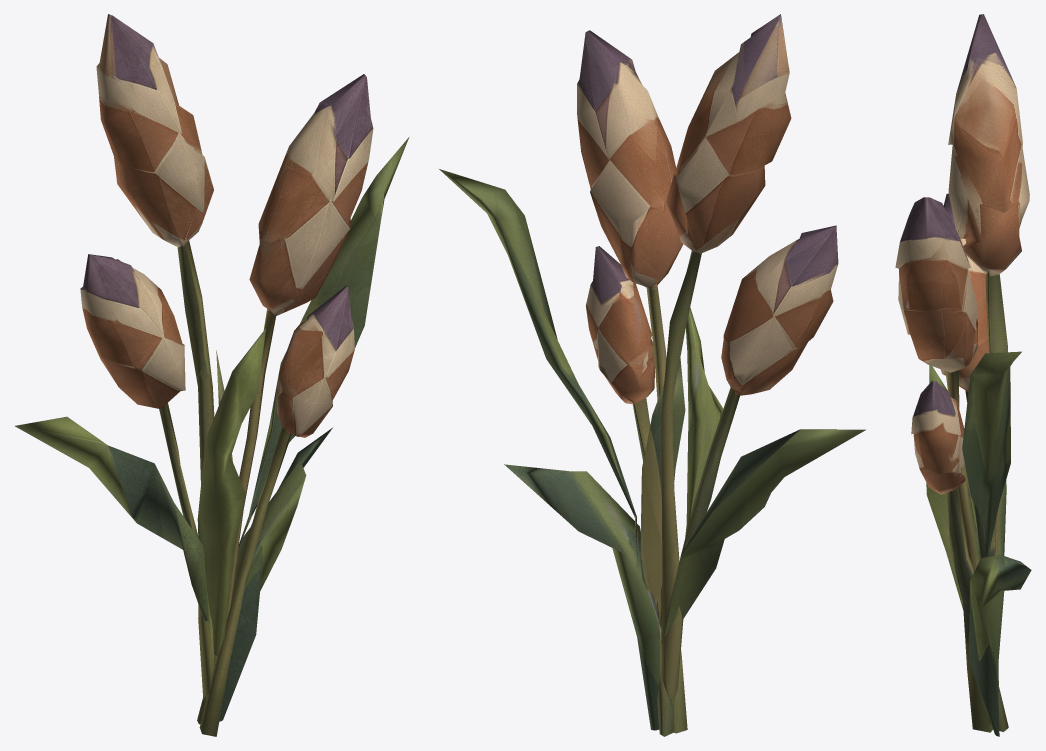
The model's file is AW-VAR-FLORA-003-v0.2.glb.
3 views of the same model, side by side, from view 1: azimuth 30°, elevation 25°; view 2: azimuth 150°, elevation 25°; view 3: azimuth 270°, elevation 25° (orthographic). The views are drawn at different scales.
Parts seen in each view (by area): view 1: AW-VAR-FLORA-003_meter_ground_pivot; view 2: AW-VAR-FLORA-003_meter_ground_pivot; view 3: AW-VAR-FLORA-003_meter_ground_pivot.
Boxes of the visible parts, left/top/right/bottom form: AW-VAR-FLORA-003_meter_ground_pivot: left=15, top=14, right=409, bottom=736; AW-VAR-FLORA-003_meter_ground_pivot: left=439, top=14, right=865, bottom=736; AW-VAR-FLORA-003_meter_ground_pivot: left=895, top=14, right=1031, bottom=736.
Size of the model in its own units: 0.4941 by 0.85 by 0.1564.
1 material, 1 textured.
